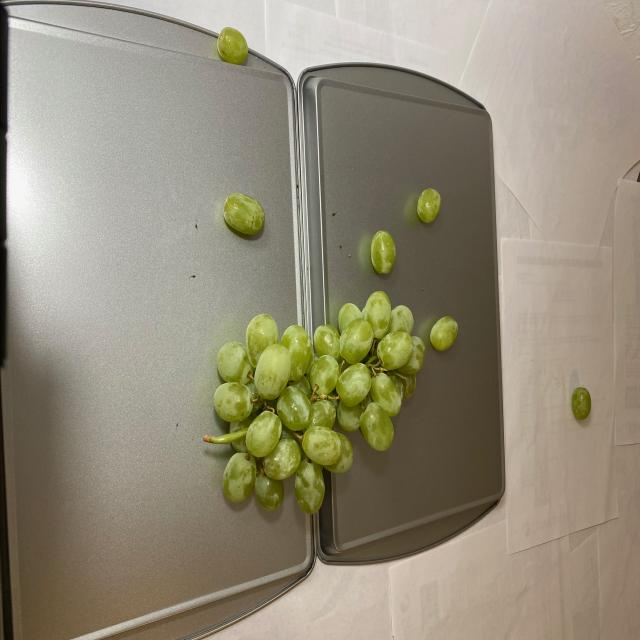grapes: (201, 186, 461, 517), (213, 24, 253, 68), (568, 387, 594, 422)
